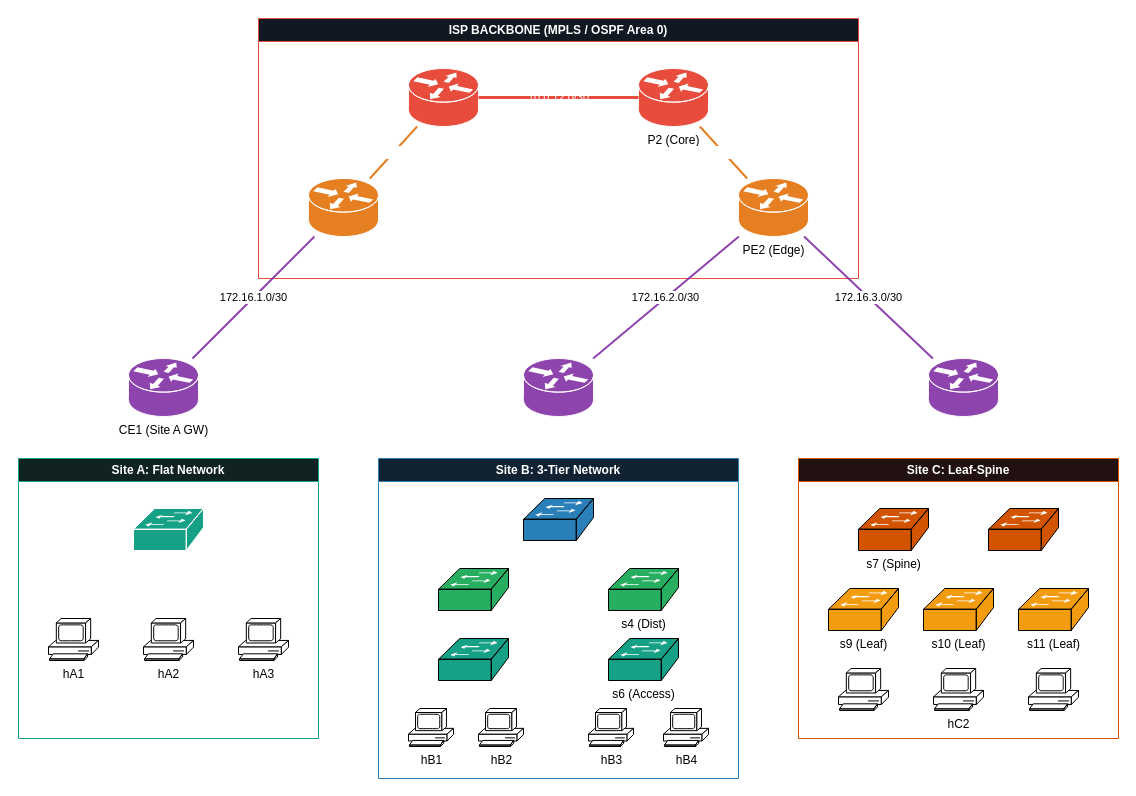
Image size: 1136x796. Some labels were removed from this diagram. Each missing label, with the centre of its shape:
"CE2 (Site B GW)" goes at pixel 558 387.
"CE3 (Site C GW)" goes at pixel 963 387.
"hC1" goes at pixel 863 689.
"hC3" goes at pixel 1053 689.
"P1 (Core)" goes at pixel 443 97.
"PE1 (Edge)" goes at pixel 343 207.
"s1 (Switch)" goes at pixel 168 529.
"s2 (Core)" goes at pixel 558 519.
"s3 (Dist)" goes at pixel 473 589.
"s5 (Access)" goes at pixel 473 659.
"s8 (Spine)" goes at pixel 1023 529.
